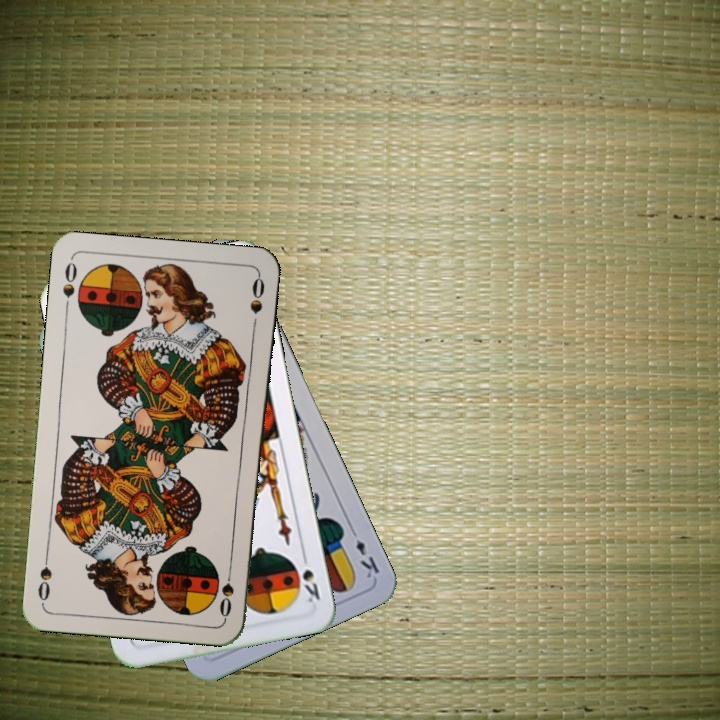EK: (346, 523, 383, 581)
SK: (298, 548, 323, 606)
SO: (215, 561, 237, 620), (58, 258, 79, 315)
